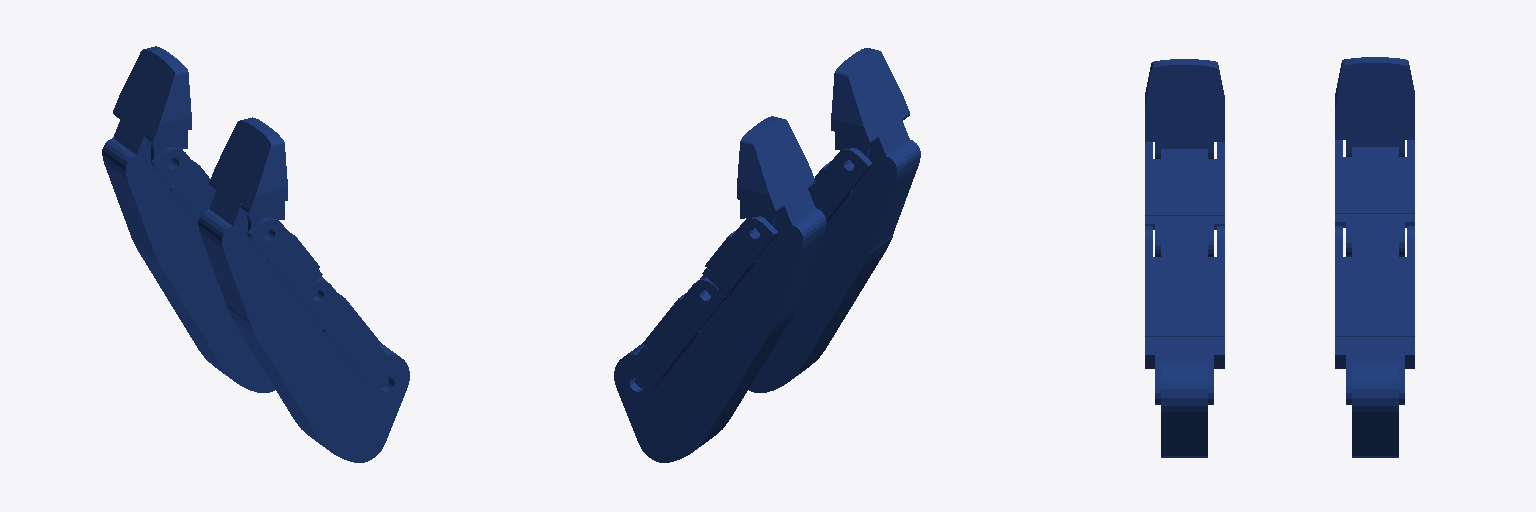
The model's file is armL tfinger.004.obj.
3 views of the same model, side by side, from view 1: azimuth 30°, elevation 25°; view 2: azimuth 150°, elevation 25°; view 3: azimuth 270°, elevation 25° (orthographic).
Parts seen in each view (by area): view 1: visual_0_armL_tfinger_armL_tfinger.004; view 2: visual_0_armL_tfinger_armL_tfinger.004; view 3: visual_0_armL_tfinger_armL_tfinger.004.
Part boxes in pixels (bbox=[...]): visual_0_armL_tfinger_armL_tfinger.004: bbox=[102, 46, 409, 462]; visual_0_armL_tfinger_armL_tfinger.004: bbox=[614, 48, 920, 462]; visual_0_armL_tfinger_armL_tfinger.004: bbox=[1145, 57, 1414, 457].
Bounding box in the file's own units: 0.0628 × 0.1111 × 0.0778.